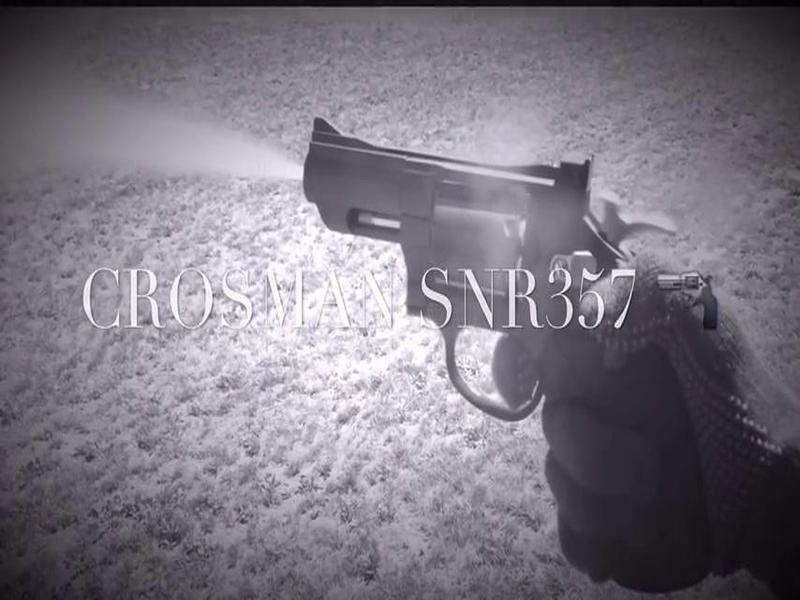Revolver: (297, 108, 656, 580)
